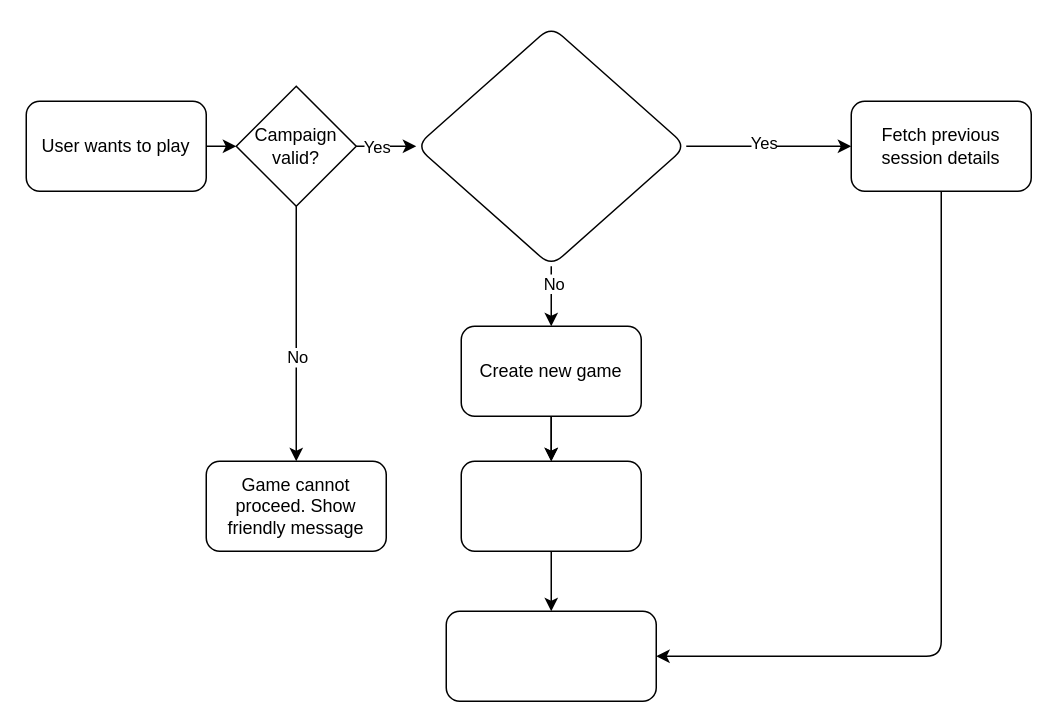
Image size: 1058x728. Some labels were removed from this diagram. Each missing label, with the box of its shape:
Create game session: (445, 610, 656, 701)
Determine Prizes: (460, 460, 641, 551)
User has unfinished game?: (415, 25, 686, 266)
